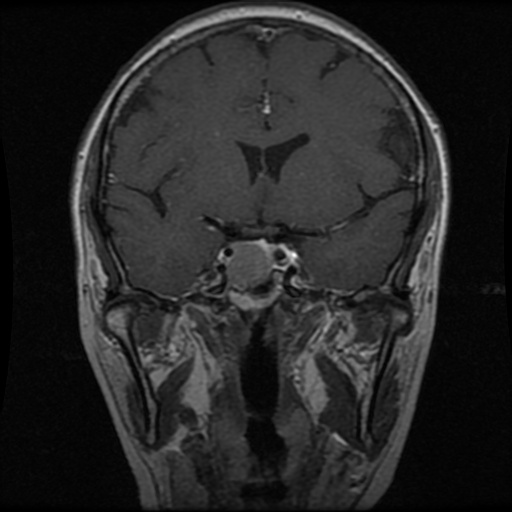pituitary: (227, 241, 275, 289)
